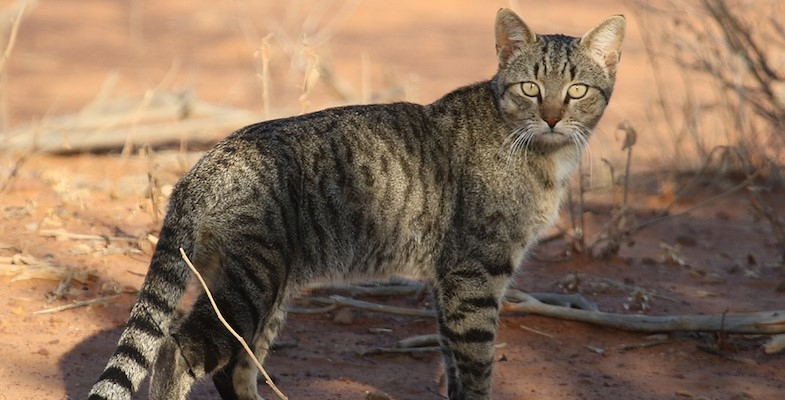Cat: (88, 5, 632, 399)
